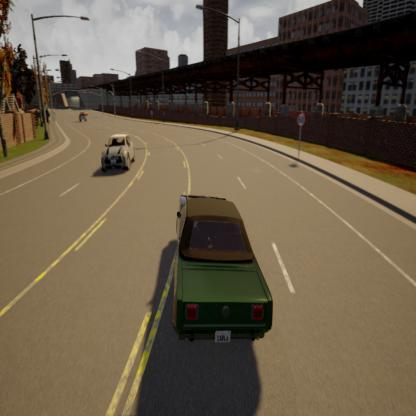Cars: (163, 171, 282, 354), (97, 127, 137, 176), (78, 111, 87, 124), (78, 109, 89, 116)
